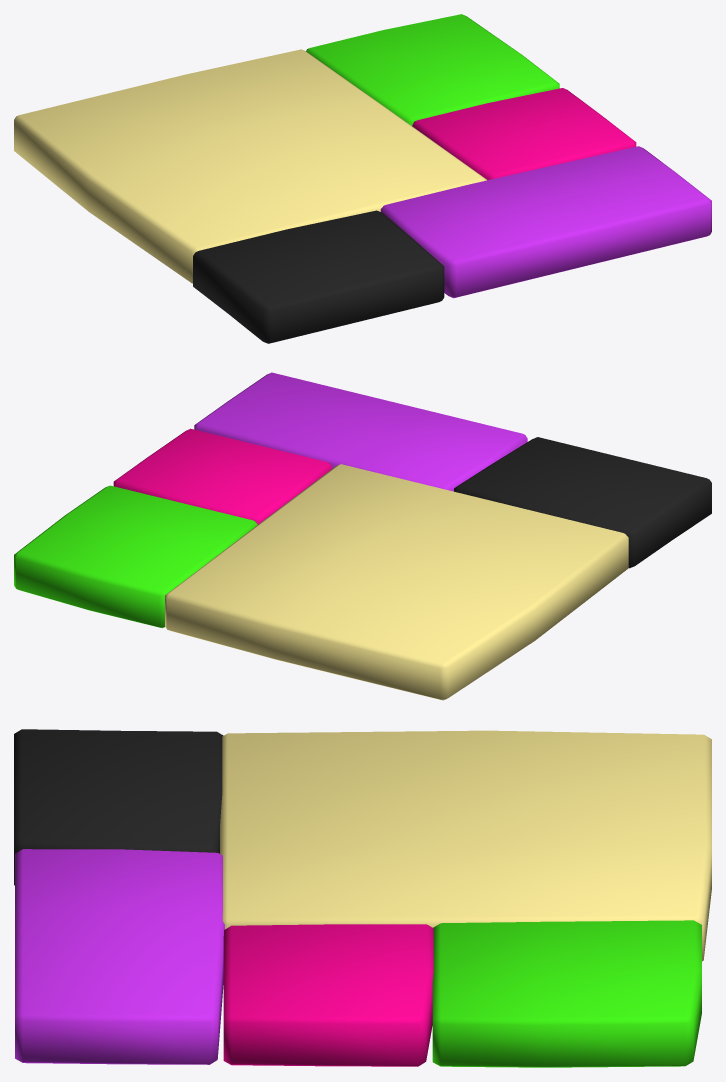
Rendered from ground stones.FBX.
3 views of the same model, one above another, from view 1: azimuth 30°, elevation 25°; view 2: azimuth 150°, elevation 25°; view 3: azimuth 270°, elevation 25° (orthographic). The views are drawn at different scales.
Parts seen in each view (by area): view 1: ChamferBox009, ChamferBox011, ChamferBox010, ChamferBox013, ChamferBox012; view 2: ChamferBox009, ChamferBox011, ChamferBox013, ChamferBox010, ChamferBox012; view 3: ChamferBox009, ChamferBox011, ChamferBox013, ChamferBox012, ChamferBox010.
Part boxes in pixels (box(x1,y1,x2,y2)): ChamferBox009: box(14, 49, 486, 283); ChamferBox011: box(380, 146, 711, 298); ChamferBox010: box(193, 210, 444, 343); ChamferBox013: box(306, 14, 559, 125); ChamferBox012: box(412, 88, 636, 180); ChamferBox009: box(165, 464, 628, 700); ChamferBox011: box(194, 372, 527, 491); ChamferBox013: box(14, 485, 257, 628); ChamferBox010: box(454, 437, 711, 568); ChamferBox012: box(113, 428, 331, 524); ChamferBox009: box(220, 730, 711, 961); ChamferBox011: box(15, 849, 224, 1064); ChamferBox013: box(432, 920, 701, 1067); ChamferBox012: box(223, 924, 433, 1066); ChamferBox010: box(14, 729, 223, 885).
Bounding box in the file's own units: 186 × 14.85 × 186.
